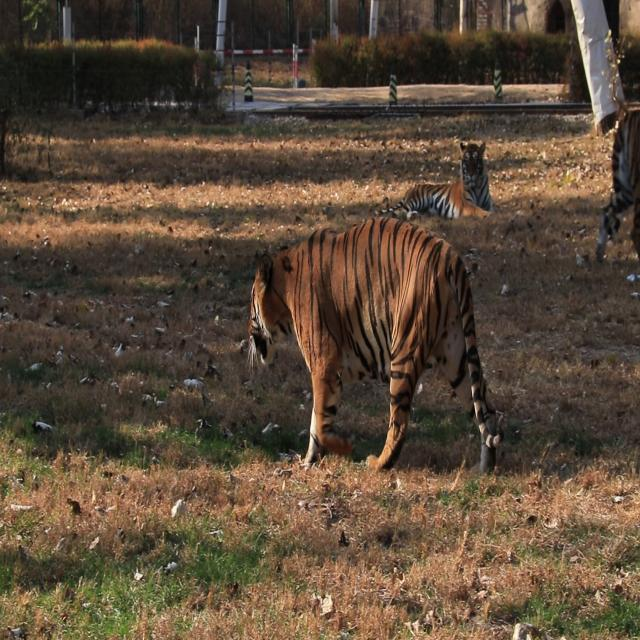Tiger: (248, 211, 503, 467), (372, 122, 508, 223)
